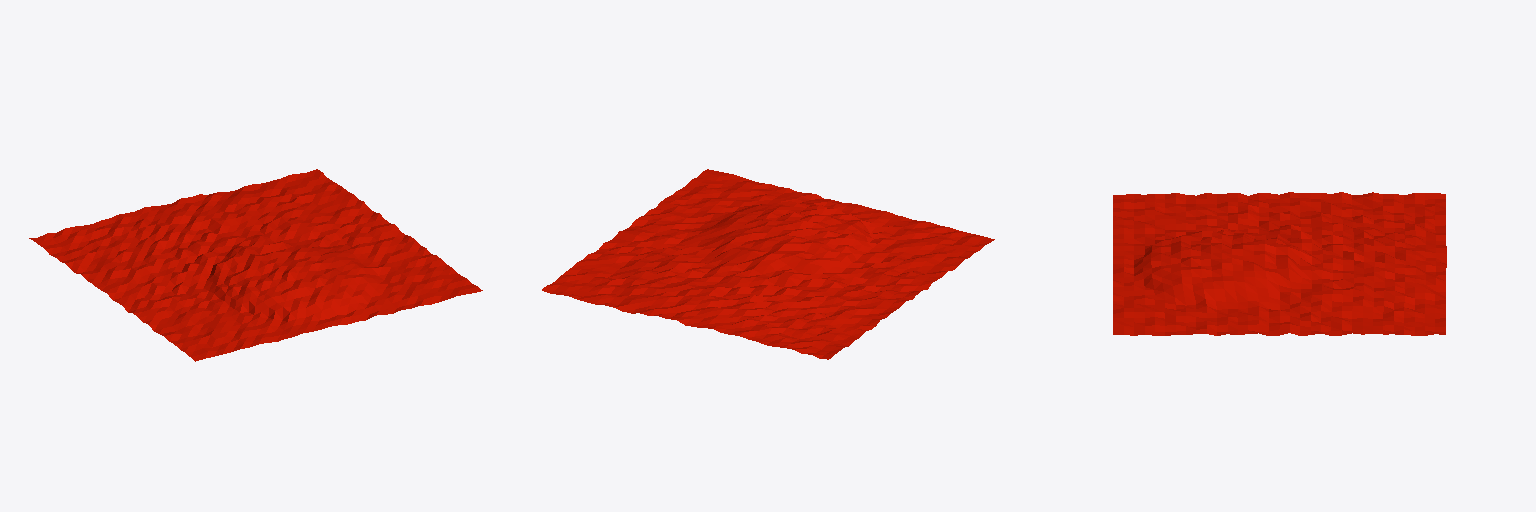
File: test_level_terrain.obj
3 views of the same model, side by side, from view 1: azimuth 30°, elevation 25°; view 2: azimuth 150°, elevation 25°; view 3: azimuth 270°, elevation 25° (orthographic).
Visible parts, largest first — view 1: Terrain_Plane; view 2: Terrain_Plane; view 3: Terrain_Plane.
Part boxes in pixels (bbox=[...]): Terrain_Plane: bbox=[29, 169, 482, 361]; Terrain_Plane: bbox=[542, 169, 994, 359]; Terrain_Plane: bbox=[1113, 192, 1446, 335].
Size of the model in its own units: 14.94 by 1.02 by 14.98.